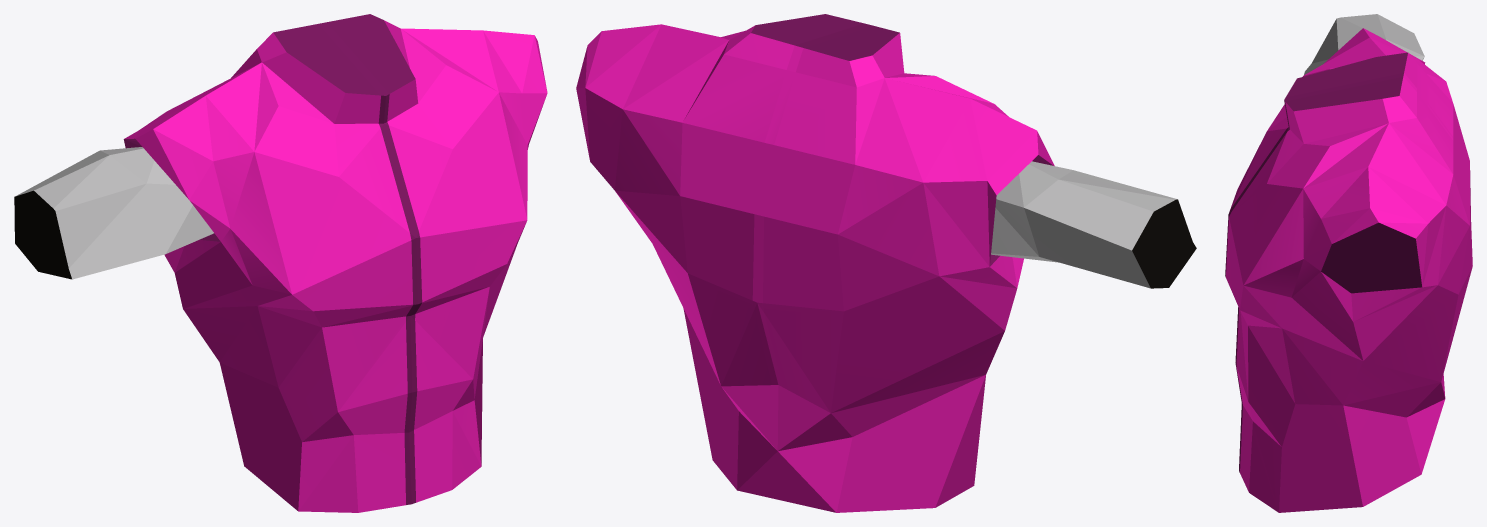
Rendered from shirt.Miami.fbx.
The picture shows the model from 3 angles, left to right: view 1: azimuth 30°, elevation 25°; view 2: azimuth 150°, elevation 25°; view 3: azimuth 270°, elevation 25°; orthographic projection. The views are drawn at different scales.
Parts seen in each view (by area): view 1: miami.shirt; view 2: miami.shirt; view 3: miami.shirt.
Boxes of the visible parts, x1,y1,x2,y2 form: miami.shirt: (14,14,547,512); miami.shirt: (576,14,1196,512); miami.shirt: (1225,14,1472,512).
Bounding box in the file's own units: 69.73 × 54.46 × 30.83.
